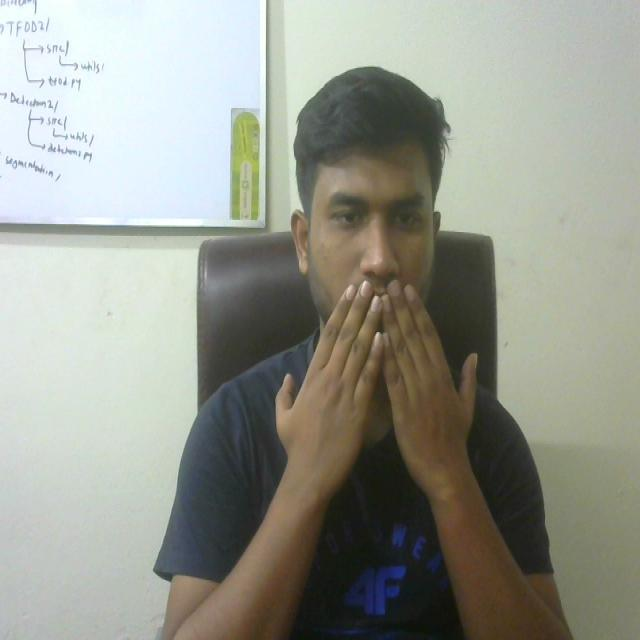Thanks: (260, 271, 495, 501)
